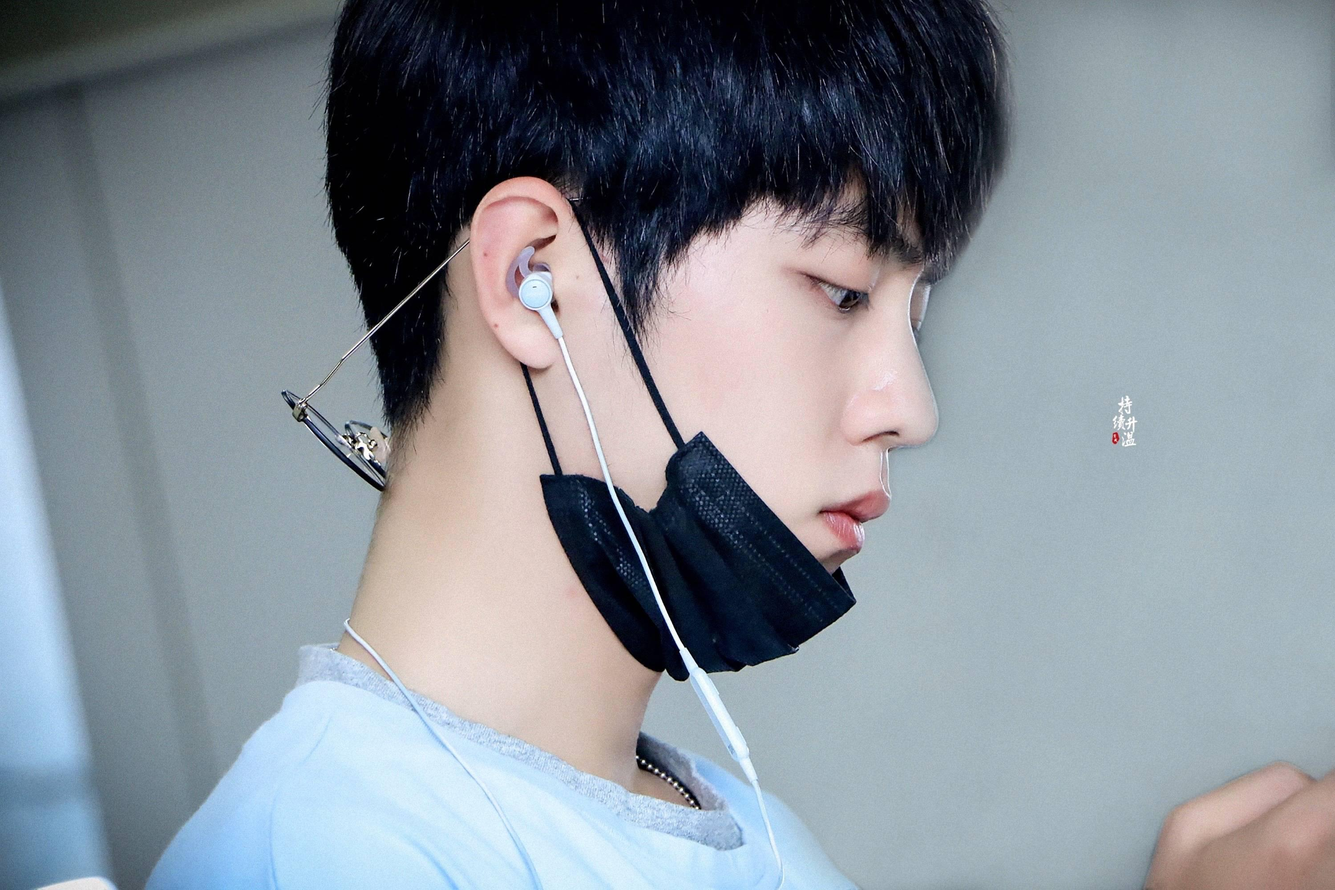WRONG: (616, 113, 954, 659)
